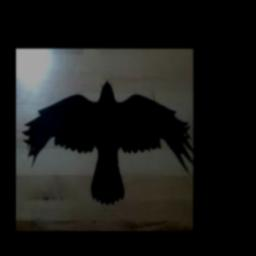Crow: (23, 81, 189, 205)
